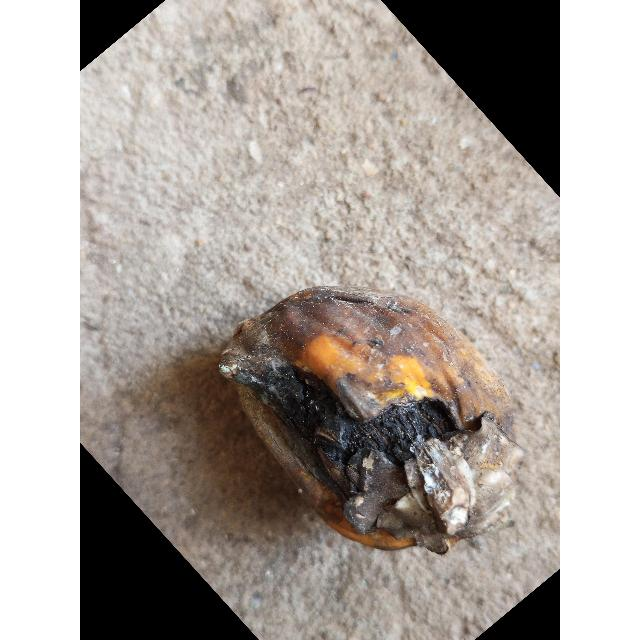damaged: (217, 287, 519, 557)
